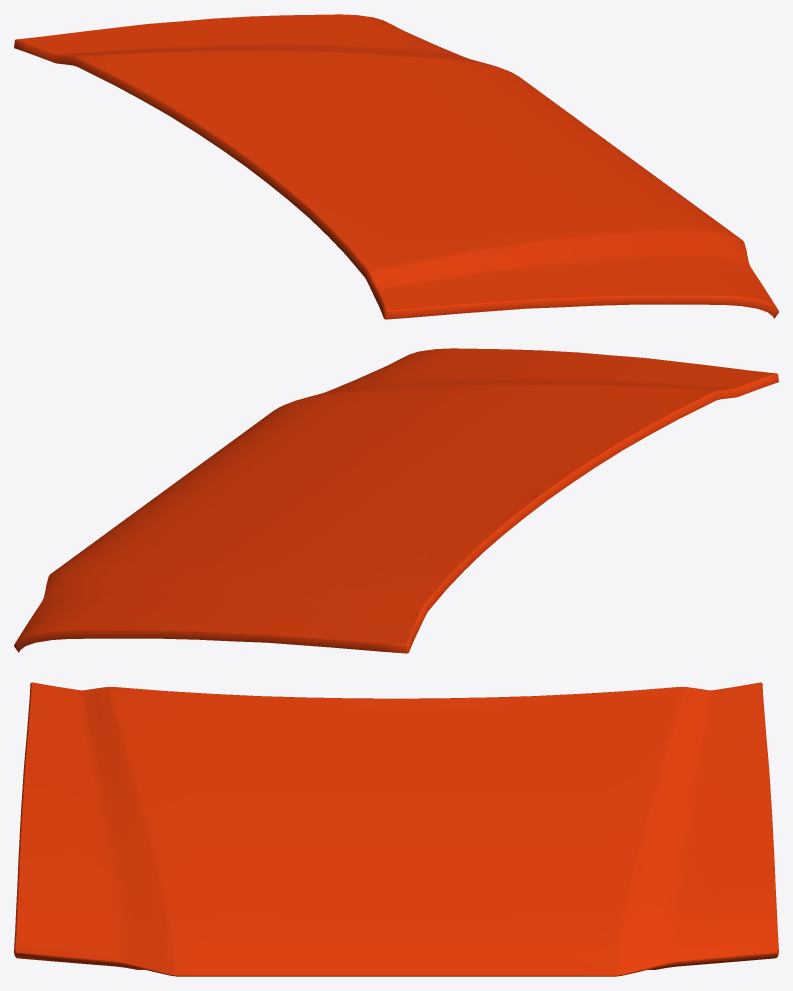
3 views of the same model, one above another, from view 1: azimuth 30°, elevation 25°; view 2: azimuth 150°, elevation 25°; view 3: azimuth 270°, elevation 25° (orthographic).
Parts seen in each view (by area): view 1: U843_9A_101B_C_1_DaS_U843_9A_101B_C, U843_9A_101B_C_1_DaS_U843_9A_101B_C_E; view 2: U843_9A_101B_C_1_DaS_U843_9A_101B_C, U843_9A_101B_C_1_DaS_U843_9A_101B_C_E; view 3: U843_9A_101B_C_1_DaS_U843_9A_101B_C, U843_9A_101B_C_1_DaS_U843_9A_101B_C_E.
Part boxes in pixels (box(x1,y1,x2,y2)): U843_9A_101B_C_1_DaS_U843_9A_101B_C: box(17, 14, 777, 310); U843_9A_101B_C_1_DaS_U843_9A_101B_C_E: box(14, 39, 778, 319); U843_9A_101B_C_1_DaS_U843_9A_101B_C: box(15, 348, 775, 644); U843_9A_101B_C_1_DaS_U843_9A_101B_C_E: box(14, 373, 778, 653); U843_9A_101B_C_1_DaS_U843_9A_101B_C: box(15, 682, 777, 975); U843_9A_101B_C_1_DaS_U843_9A_101B_C_E: box(14, 682, 778, 976).
Bounding box in the file's own units: 95.58 × 21.4 × 149.
